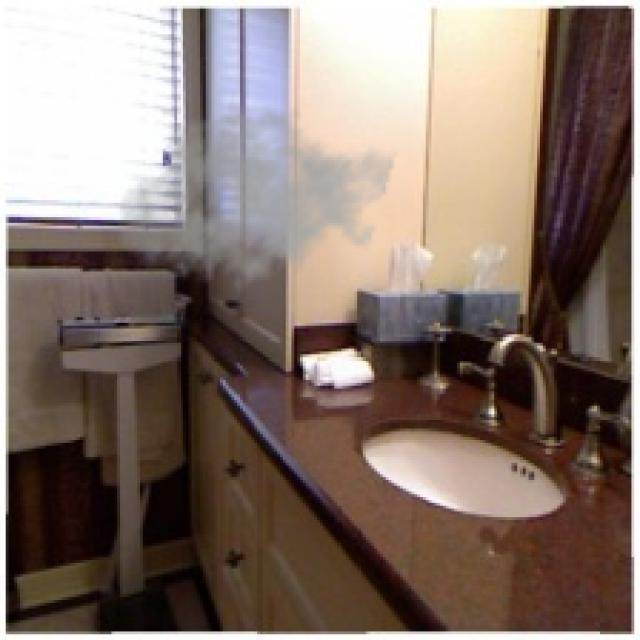smoke: (114, 97, 397, 303)
